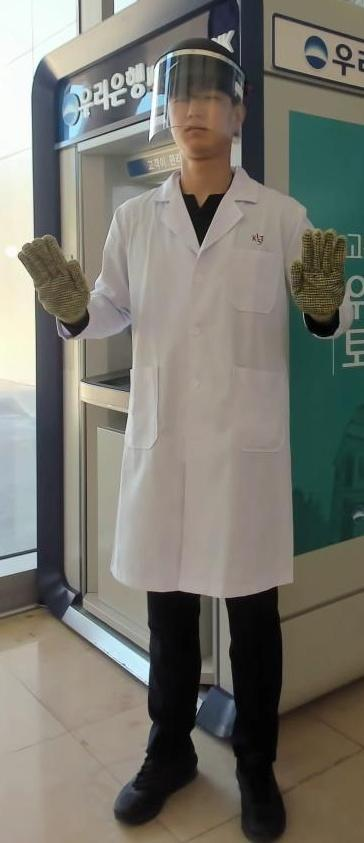lab_coat: (104, 190, 287, 583)
